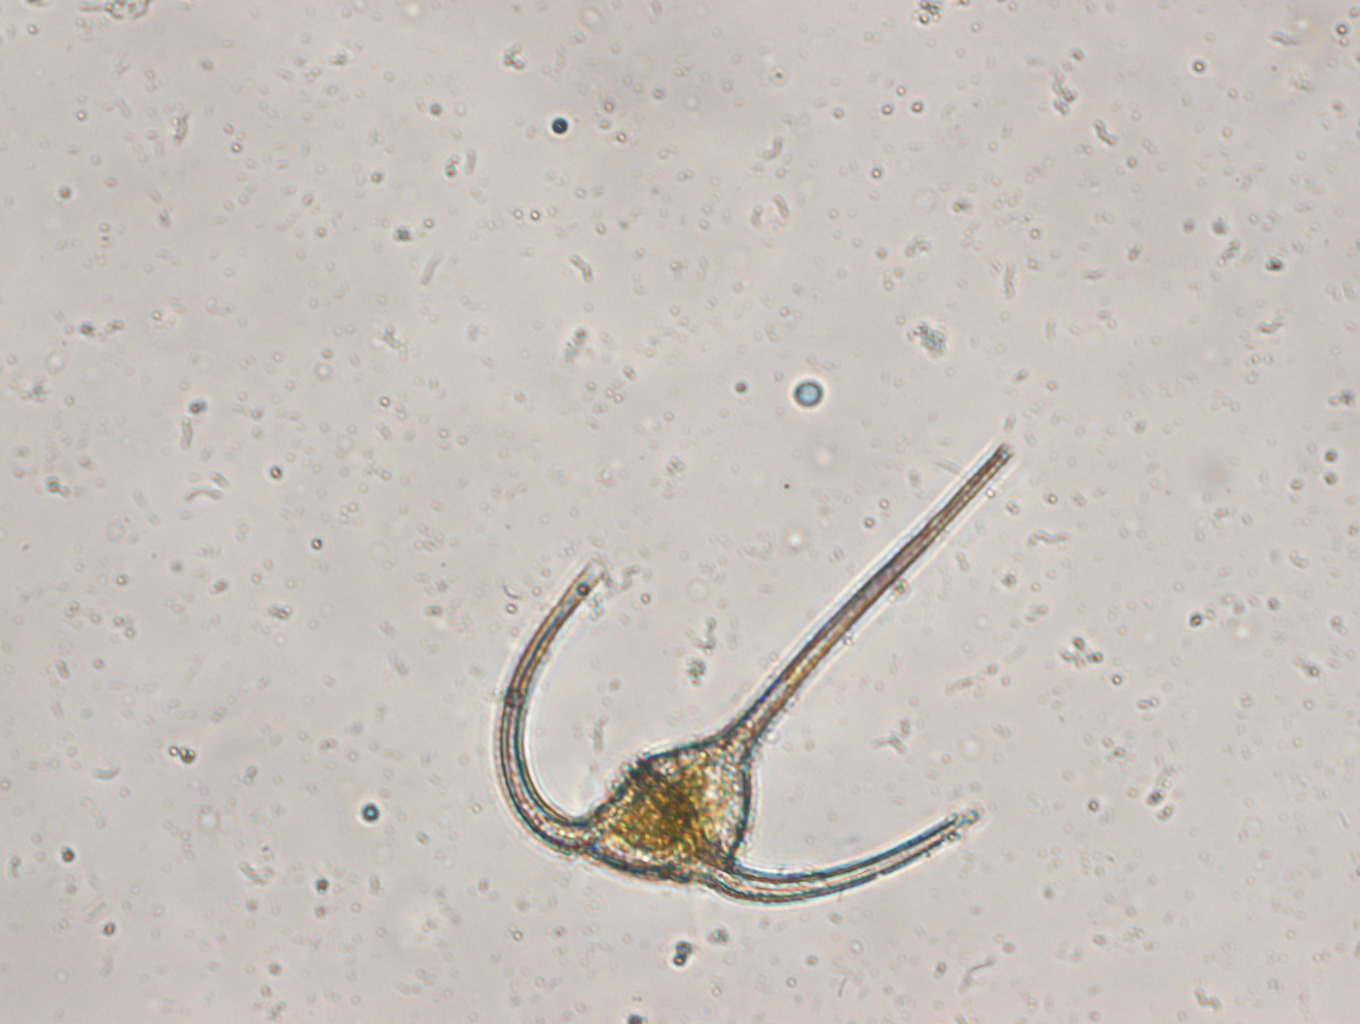ceratium trichoceros: (484, 431, 1029, 908)
